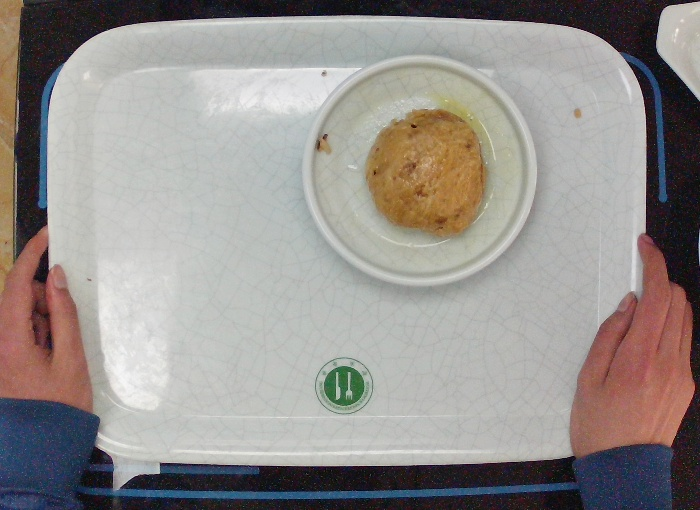JYsf-Xiao_Yuan_Pan: (300, 54, 536, 288)
